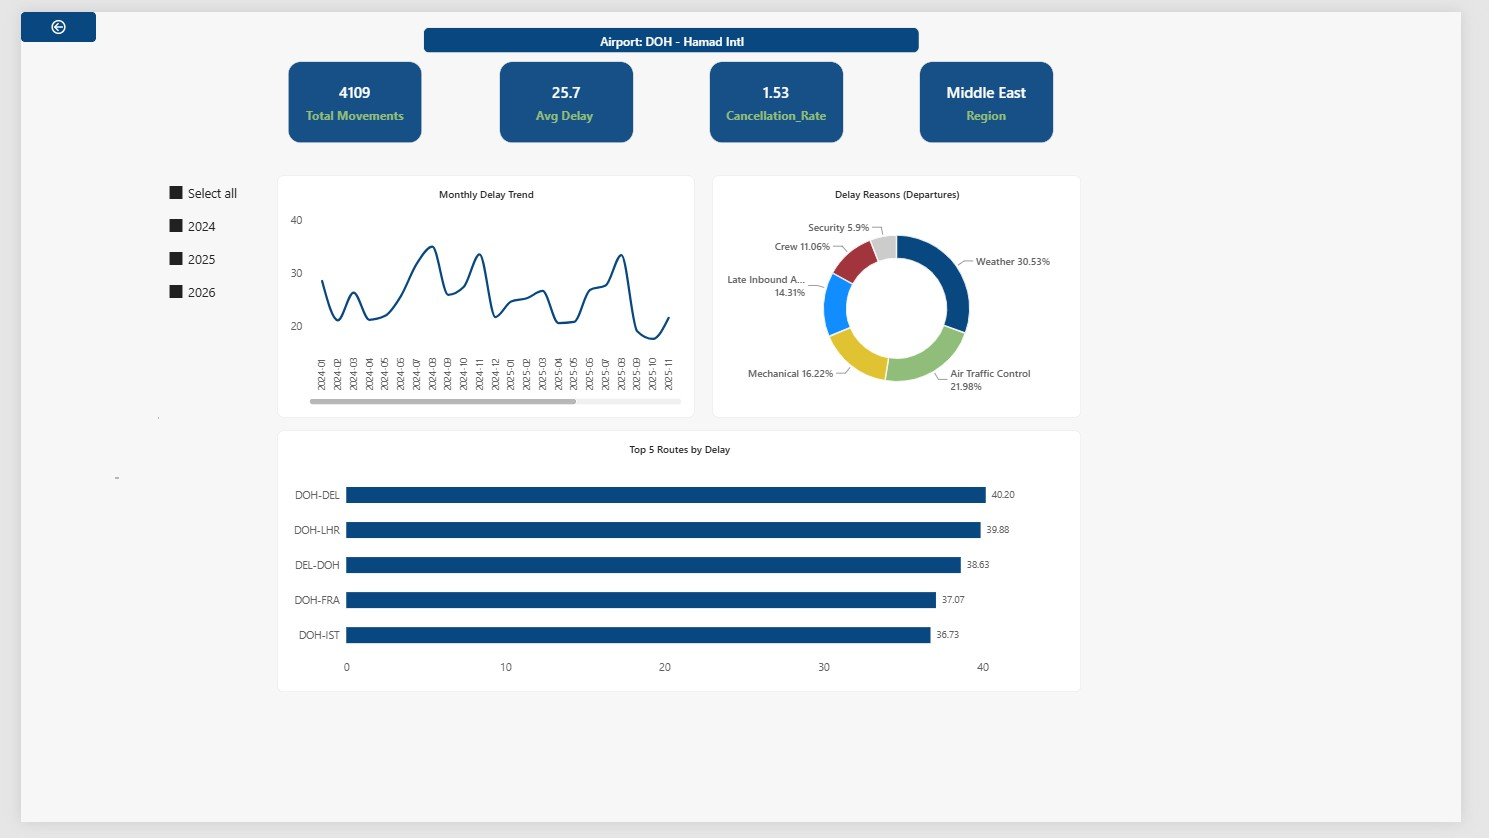

What the dashboard file says about the page in this screenshot:
{"tool":"powerbi","page":{"name":"Airport Detail","canvas":[1920,1080],"ordinal":5},"visuals":[{"type":"cardVisual","fields":{"Data":["Measure Table.Airport Title"]},"box":[577.7,44.6,662.9,35.7],"z":0},{"type":"card","fields":{"Values":["Measure Table.Total Movements"]},"box":[399.1,90.3,178.6,108.6],"z":1000},{"type":"card","fields":{"Values":["Measure Table.Avg Delay (Origin+Dest)"]},"box":[679.6,90.3,178.6,108.6],"z":2000},{"type":"card","fields":{"Values":["Measure Table.Cancelation_Rate_Pct"]},"box":[960.1,90.3,178.6,108.6],"z":3000},{"type":"card","fields":{"Values":["Min(airports.region)"]},"box":[1240.6,90.3,178.6,108.6],"z":4000},{"type":"lineChart","title":"Monthly Delay Trend","fields":{"Category":["flights.YearMonth"],"Y":["Measure Table.Avg Delay (Origin+Dest)"]},"box":[383.4,241.7,555.7,322.9],"z":5000},{"type":"donutChart","title":"Delay Reasons (Departures)","fields":{"Category":["flights.delay_reason"],"Series":["flights.delay_reason"],"Y":["Measure Table.Total Flights"]},"box":[963.4,241.7,491.4,322.9],"z":6000},{"type":"barChart","title":"Top 5 Routes by Delay","fields":{"Category":["flights.Route Name"],"Y":["Measure Table.Avg Delay (Origin+Dest)"]},"box":[383.4,583.1,1071.4,348.6],"z":7000},{"type":"shape","box":[1.7,0,178.6,1080],"z":8000},{"type":"slicer","title":"Year","fields":{"Values":["flights.Year"]},"box":[33.3,235,115.7,200],"z":9000},{"type":"actionButton","title":"Reset filters","box":[2,0,175,65],"z":10000}]}

Visuals, with their boxes in screenshot pixels (x1, y1, x2, y2), scaled from the page's 1920x1080 canvas onto the 1489x838 screenshot:
cardVisual - Measure Table.Airport Title: detection(448, 35, 962, 62)
card - Measure Table.Total Movements: detection(310, 70, 448, 154)
card - Measure Table.Avg Delay (Origin+Dest): detection(527, 70, 666, 154)
card - Measure Table.Cancelation_Rate_Pct: detection(745, 70, 883, 154)
card - Min(airports.region): detection(962, 70, 1101, 154)
"Monthly Delay Trend" lineChart: detection(297, 188, 728, 438)
"Delay Reasons (Departures)" donutChart: detection(747, 188, 1128, 438)
"Top 5 Routes by Delay" barChart: detection(297, 452, 1128, 723)
shape: detection(1, 0, 140, 837)
"Year" slicer: detection(26, 182, 116, 338)
"Reset filters" actionButton: detection(2, 0, 137, 50)
